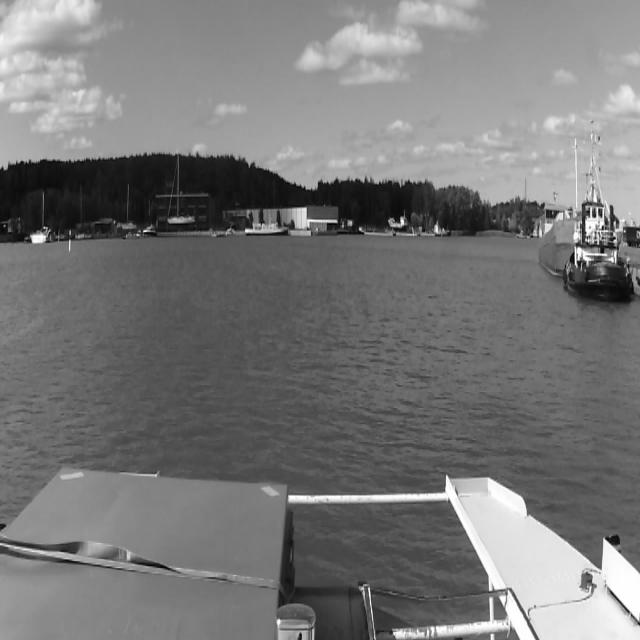buoy: (68, 230, 72, 253)
ship: (563, 117, 637, 299), (167, 155, 195, 225), (538, 215, 573, 266), (244, 220, 289, 237), (30, 230, 48, 244), (142, 224, 156, 239)
